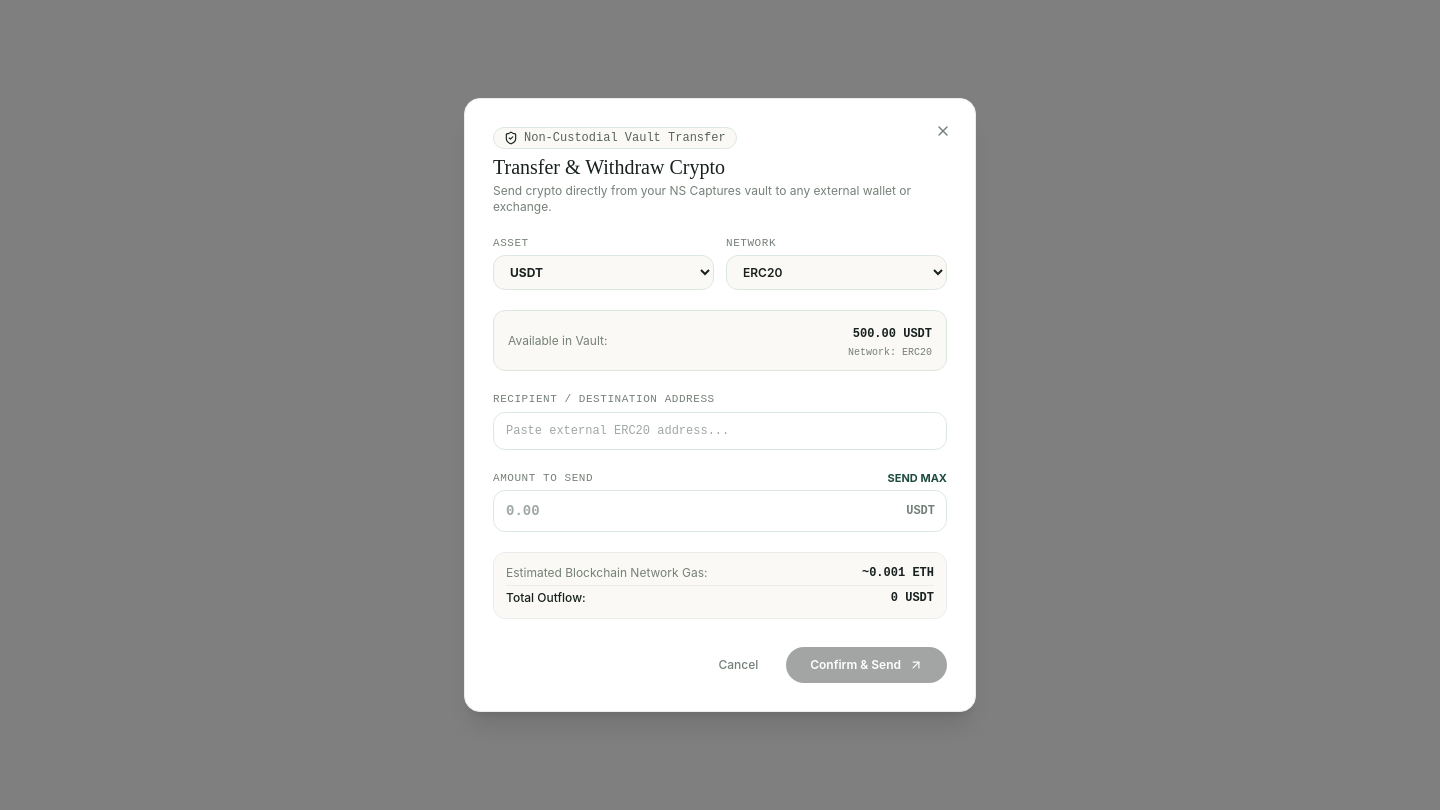
Test: TransferCryptoModal › validates EVM address: rejects non-0x and accepts 42-char 0x... address
Invalid: starts with T
Type "TYsJ19v81BshD8rJv6Qj2b8w4Zpxk89B7x" into the field with placeholder "Paste external ERC20 address..." at (720,431), box [493,412,947,450]
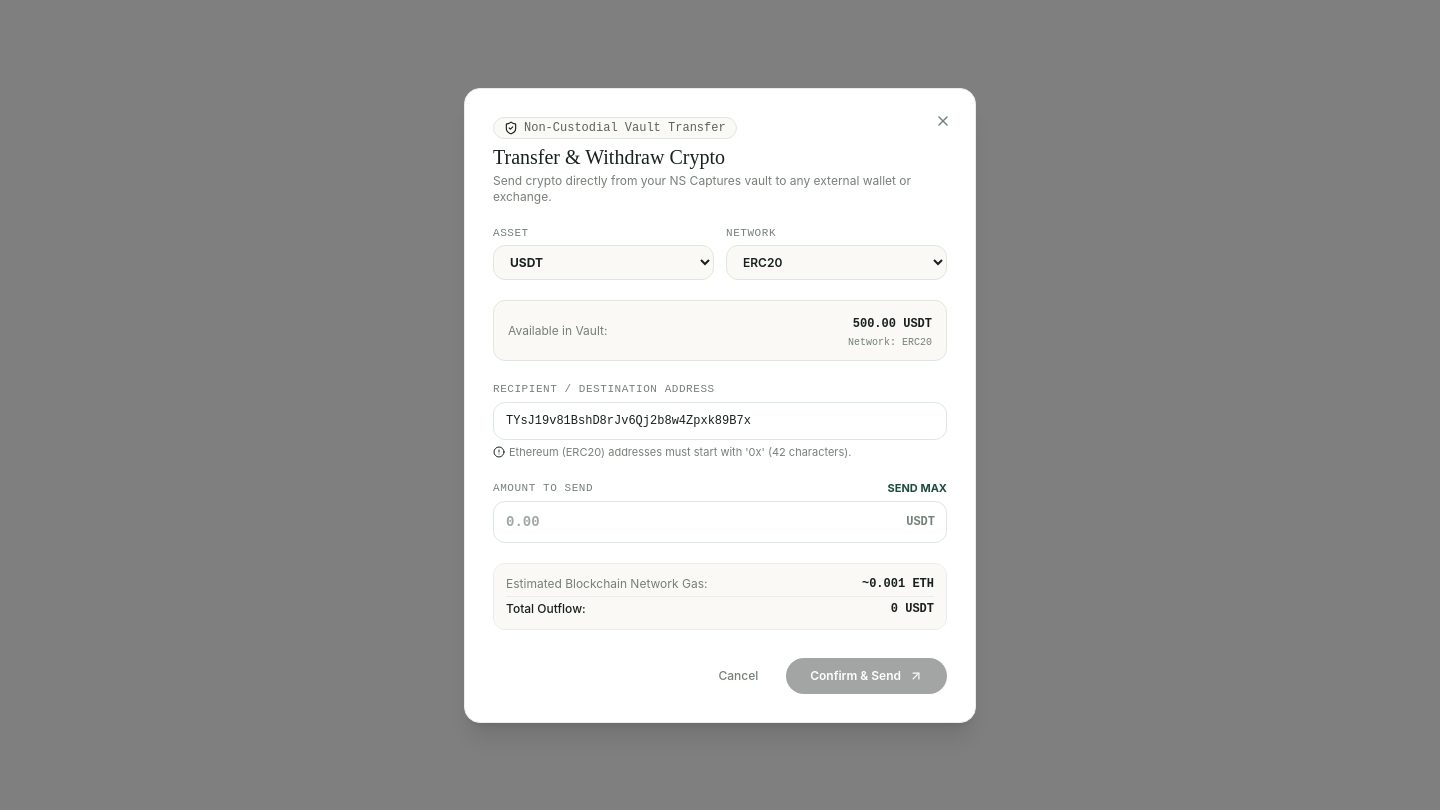
Expected: the button "Confirm & Send" is disabled, [786,658,947,694]
Now the text "Ethereum (ERC20) addresses must start with '0x' (42 characters)." is shown, box [509,444,852,460]
Valid: 0x with 42 chars
Replace the text in the field with placeholder "Paste external ERC20 address..." with "0x71C8363837918a71018283719284729184719284" at (720,420), box [493,402,947,440]
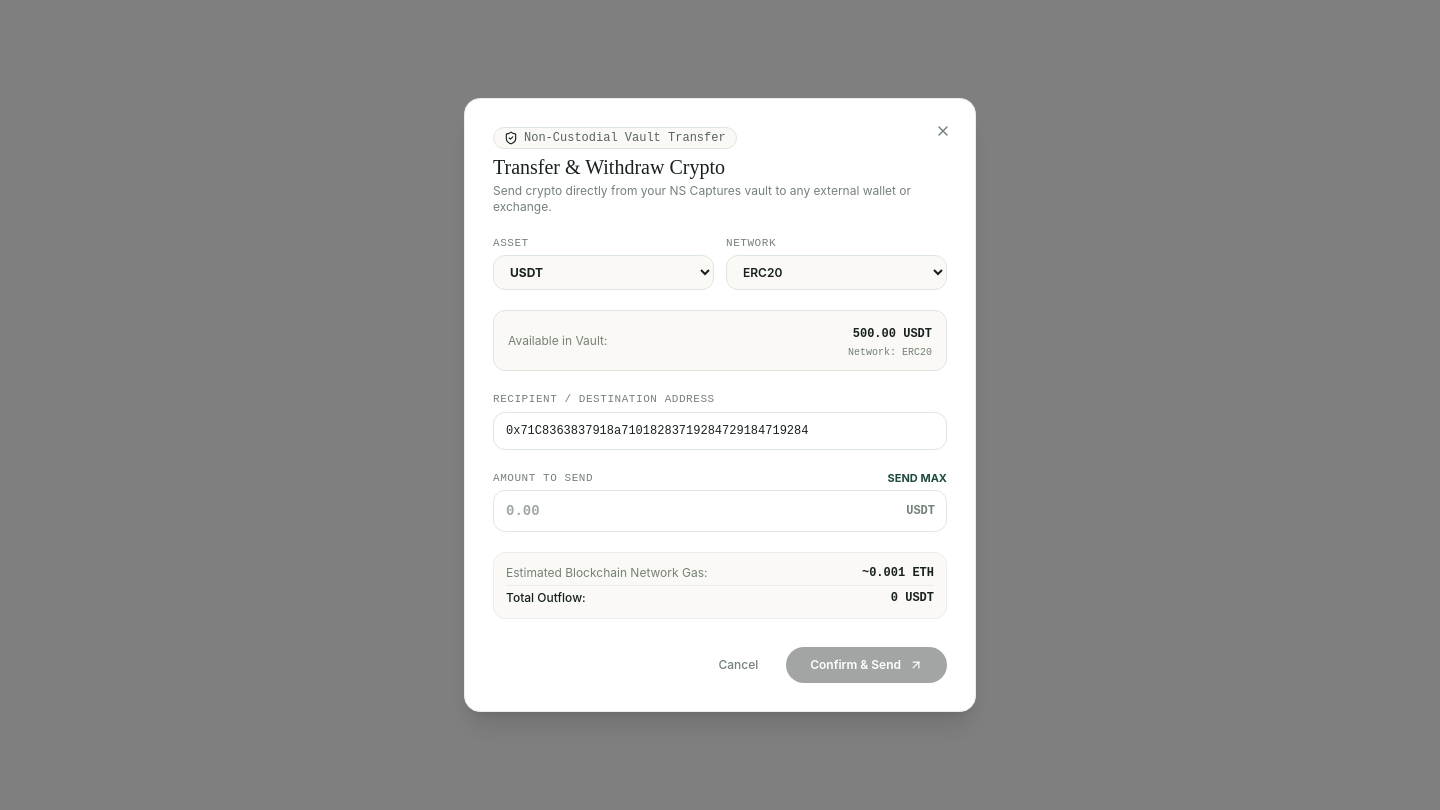
Now the text "Ethereum (ERC20) addresses must start with '0x' (42 characters)." is gone
